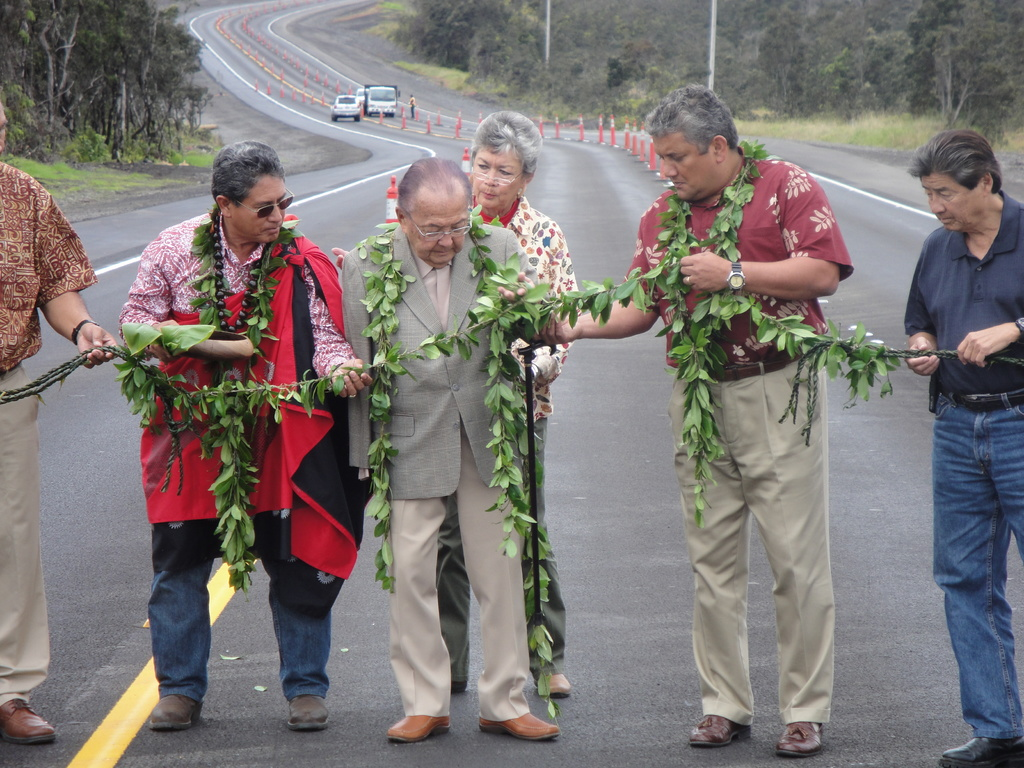Tree: (382, 0, 908, 121), (0, 0, 222, 167), (867, 0, 1023, 126)
